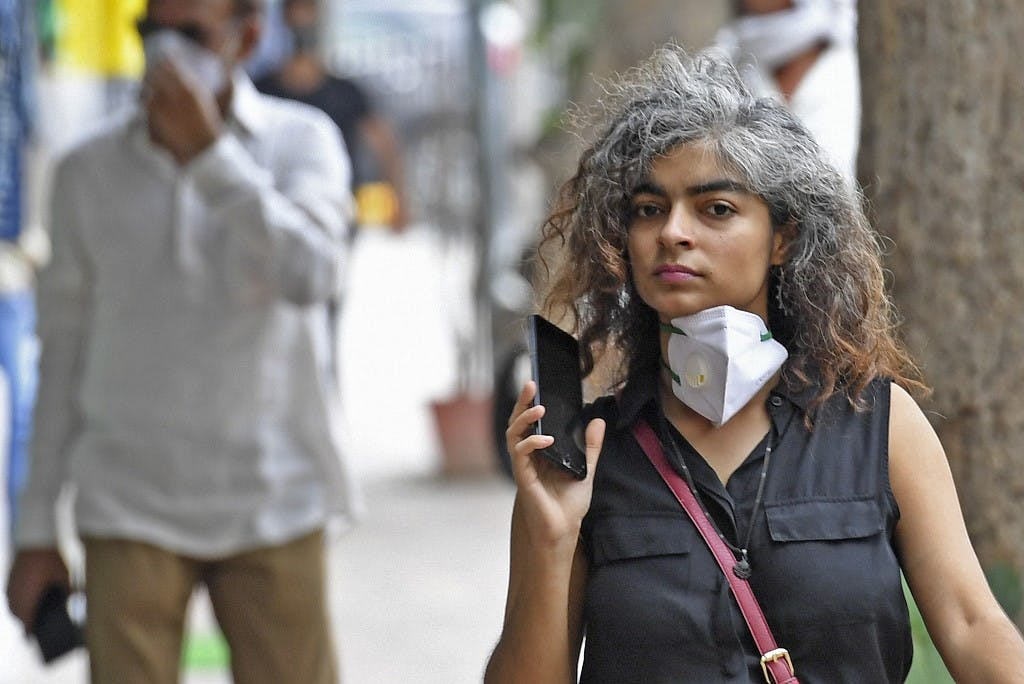with_incorrect_mask: (619, 152, 796, 431)
